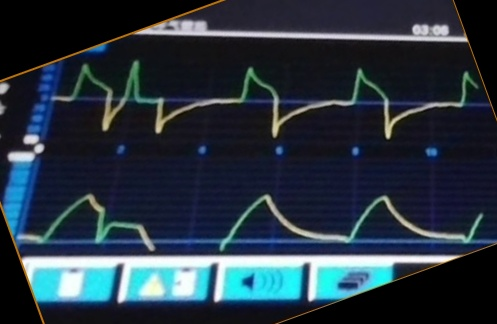Double_Triggering Flow: (57, 58, 474, 138)
Double_Triggering Volume: (23, 188, 480, 250)
